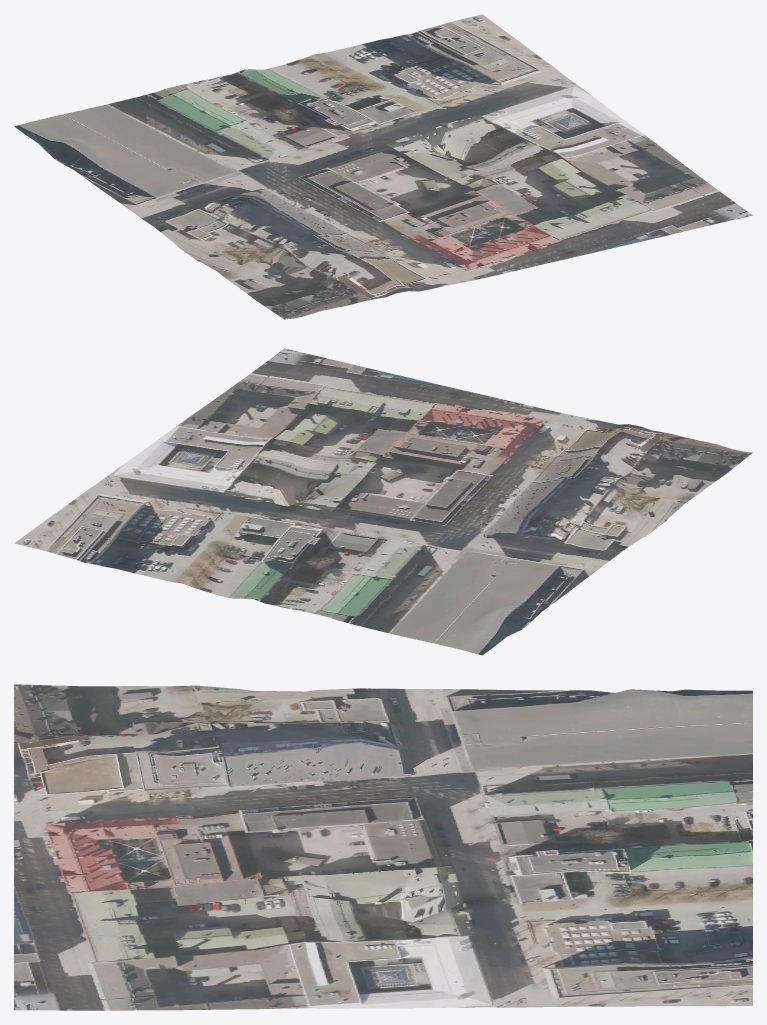
Rendered from CM_Terrain_24486978_6821022.fbx.
The picture shows the model from 3 angles, top to bottom: view 1: azimuth 30°, elevation 25°; view 2: azimuth 150°, elevation 25°; view 3: azimuth 270°, elevation 25°; orthographic projection. The views are drawn at different scales.
Parts seen in each view (by area): view 1: CM_Terrain_24486978_6821022_LOD0; view 2: CM_Terrain_24486978_6821022_LOD0; view 3: CM_Terrain_24486978_6821022_LOD0.
Boxes of the visible parts, x1,y1,x2,y2 form: CM_Terrain_24486978_6821022_LOD0: (14, 14, 752, 319); CM_Terrain_24486978_6821022_LOD0: (14, 348, 752, 655); CM_Terrain_24486978_6821022_LOD0: (14, 684, 752, 1010).
Size of what is drawn, in the model's own units: 205 by 19.48 by 205.
